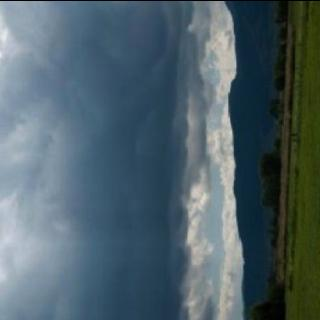Nimbostratus: (1, 0, 234, 320)
